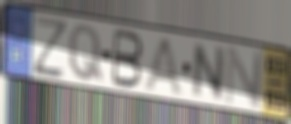A: (142, 36, 185, 98)
B: (109, 27, 145, 91)
N: (223, 44, 266, 109), (190, 41, 228, 102)
Q: (68, 22, 105, 85)
Z: (32, 14, 70, 81)
